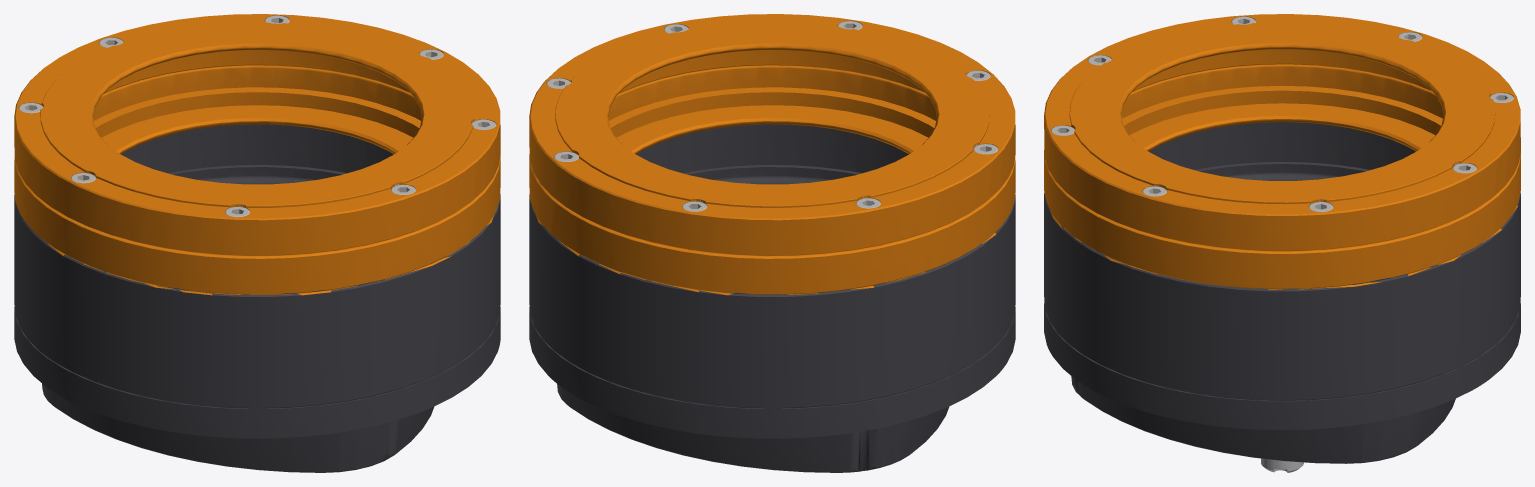
The model's file is motor2.glb.
The picture shows the model from 3 angles, left to right: view 1: azimuth 30°, elevation 25°; view 2: azimuth 150°, elevation 25°; view 3: azimuth 270°, elevation 25°; orthographic projection. The views are drawn at different scales.
Visible parts, largest first — view 1: m2, m3, m4; view 2: m2, m3, m4; view 3: m2, m3, m4.
Boxes of the visible parts, <box> form: m2: <box>14,14,500,295</box>; m3: <box>14,124,500,472</box>; m4: <box>18,15,496,217</box>; m2: <box>529,14,1015,295</box>; m3: <box>529,124,1015,472</box>; m4: <box>546,21,998,211</box>; m2: <box>1044,14,1520,289</box>; m3: <box>1044,122,1520,463</box>; m4: <box>1051,16,1513,211</box>.
Size of the model in its own units: 0.105 by 0.0726 by 0.105.
